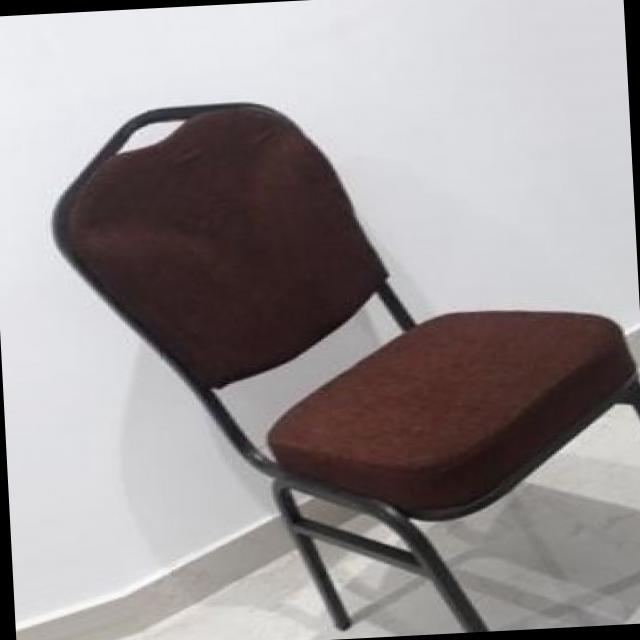Chair: (41, 71, 640, 640)
